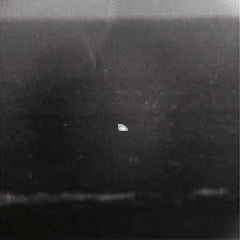Target: (116, 123, 128, 132)
